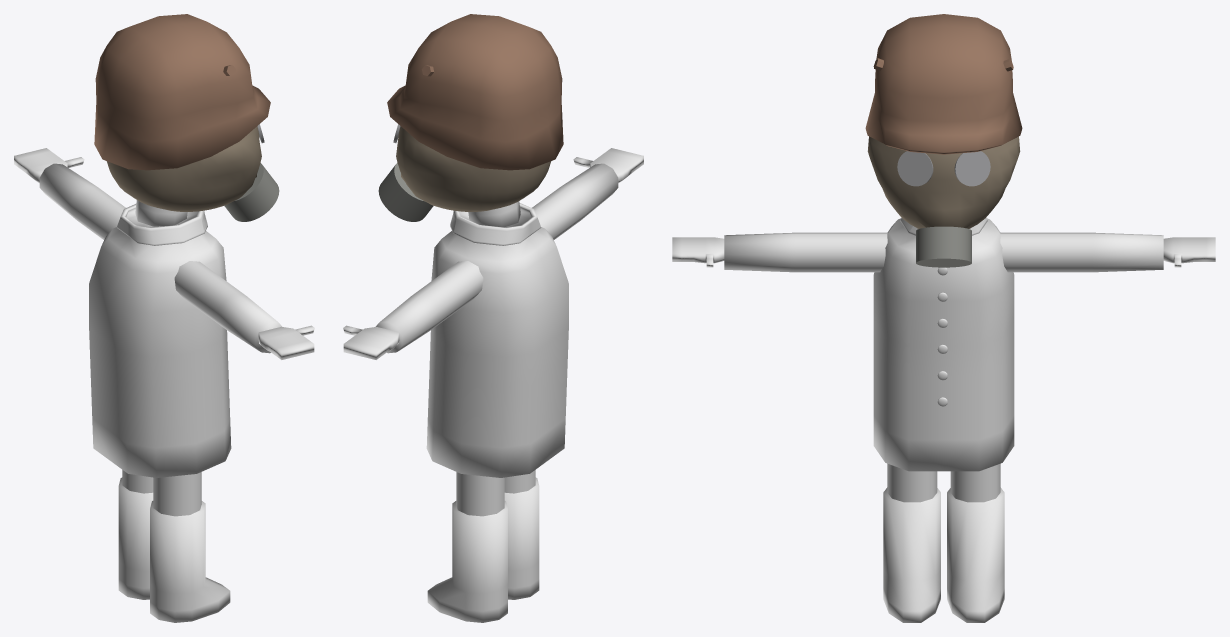
File: GER_Firethrower.fbx
The picture shows the model from 3 angles, left to right: view 1: azimuth 30°, elevation 25°; view 2: azimuth 150°, elevation 25°; view 3: azimuth 270°, elevation 25°; orthographic projection.
Visible parts, largest first — view 1: Body, Cube, Shoe, Mask, Hands.002, Shoe.001, Hands.001, Collar, Legs, Tank, Palms.002, Palms.001 (+2 smaller); view 2: Body, Cube, Shoe.001, Mask, Hands.001, Shoe, Hands.002, Collar, Legs.001, Tank, Palms.001, Palms.002 (+2 smaller); view 3: Body, Cube, Mask, Shoe, Shoe.001, Hands.001, Hands.002, Tank, Glass, Legs, Legs.001, Palms.001 (+1 smaller).
Part boxes in pixels (x1,y1,x2,y2): Body: [89, 227, 231, 477]; Cube: [94, 14, 270, 170]; Shoe: [150, 501, 230, 622]; Mask: [106, 126, 261, 211]; Hands.002: [174, 261, 282, 353]; Shoe.001: [118, 477, 153, 599]; Hands.001: [39, 163, 125, 239]; Collar: [116, 204, 207, 245]; Legs: [153, 472, 201, 516]; Tank: [224, 163, 279, 221]; Palms.002: [258, 325, 314, 359]; Palms.001: [14, 148, 84, 182]; Body: [426, 227, 568, 477]; Cube: [387, 14, 563, 170]; Shoe.001: [427, 501, 507, 622]; Mask: [396, 126, 551, 211]; Hands.001: [375, 261, 483, 353]; Shoe: [504, 477, 539, 599]; Hands.002: [532, 163, 618, 239]; Collar: [450, 203, 541, 245]; Legs.001: [456, 472, 504, 516]; Tank: [378, 163, 433, 221]; Palms.001: [343, 325, 399, 359]; Palms.002: [573, 148, 643, 182]; Body: [873, 218, 1014, 471]; Cube: [865, 14, 1022, 154]; Mask: [867, 136, 1020, 228]; Shoe: [883, 487, 940, 622]; Shoe.001: [947, 487, 1004, 622]; Hands.001: [1000, 232, 1163, 272]; Hands.002: [724, 232, 887, 272]; Tank: [916, 226, 971, 267]; Glass: [897, 151, 990, 186]; Legs: [887, 463, 937, 502]; Legs.001: [950, 463, 1000, 502]; Palms.001: [1163, 237, 1215, 267].
Bounding box in the file's own units: 252 × 797 × 677.
